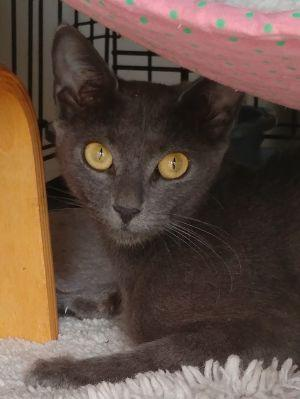rblue: (47, 27, 236, 255)
